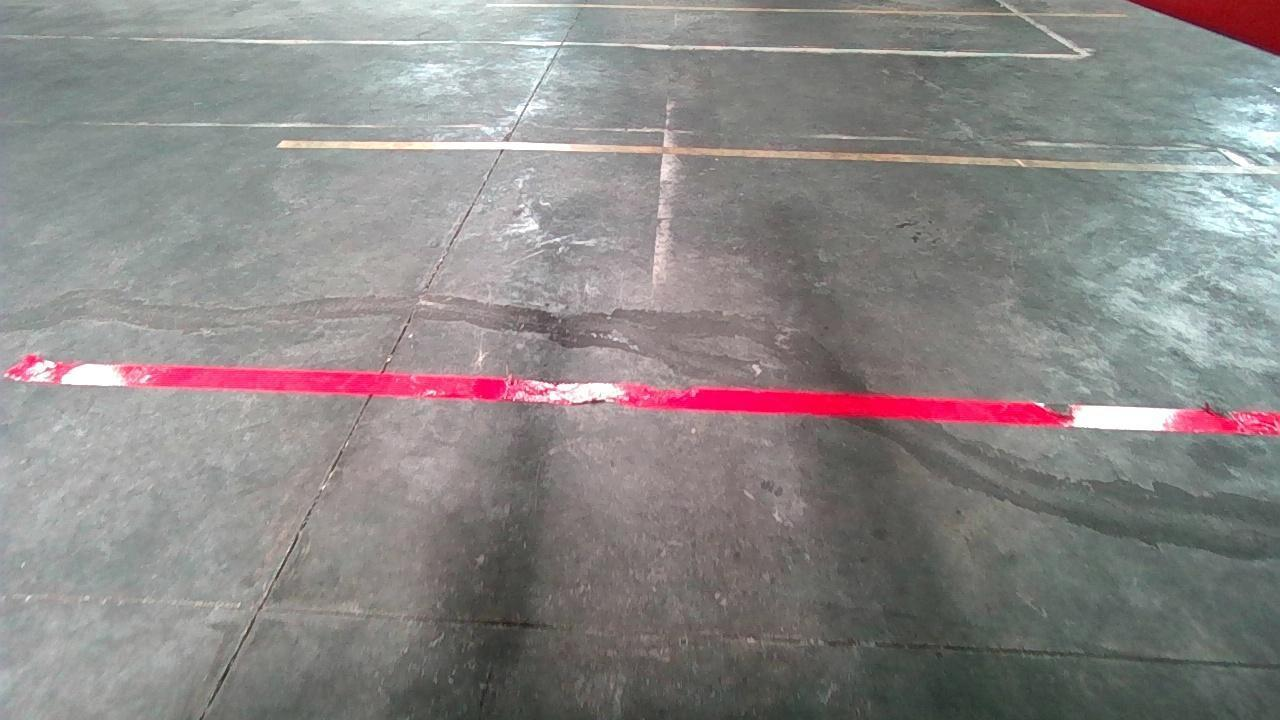red_line: (6, 355, 1280, 440)
yellow_line: (271, 138, 1277, 175)
